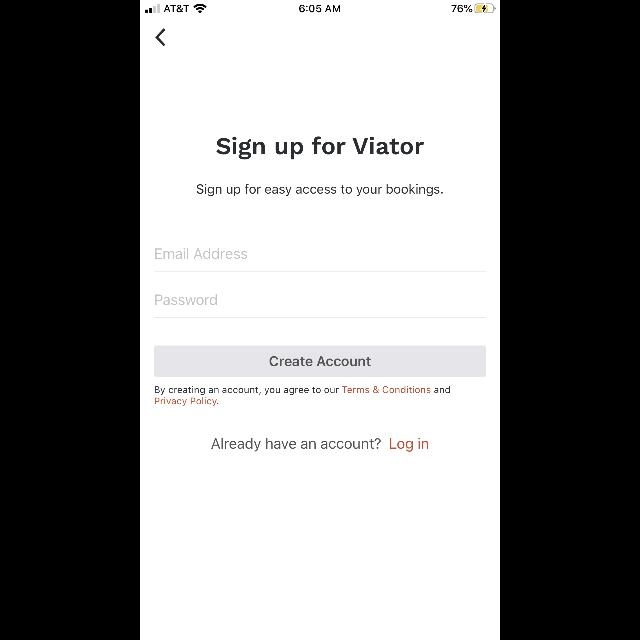icon: (156, 29, 166, 46)
input: (154, 294, 486, 318), (154, 248, 486, 272)
text: (154, 386, 450, 406), (216, 136, 424, 160), (212, 438, 428, 452), (197, 184, 443, 196), (156, 248, 248, 258), (155, 294, 217, 306)
textbutton: (154, 346, 486, 376)
uppertaskbar: (140, 0, 500, 14)
